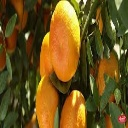orange: (48, 1, 81, 83)
